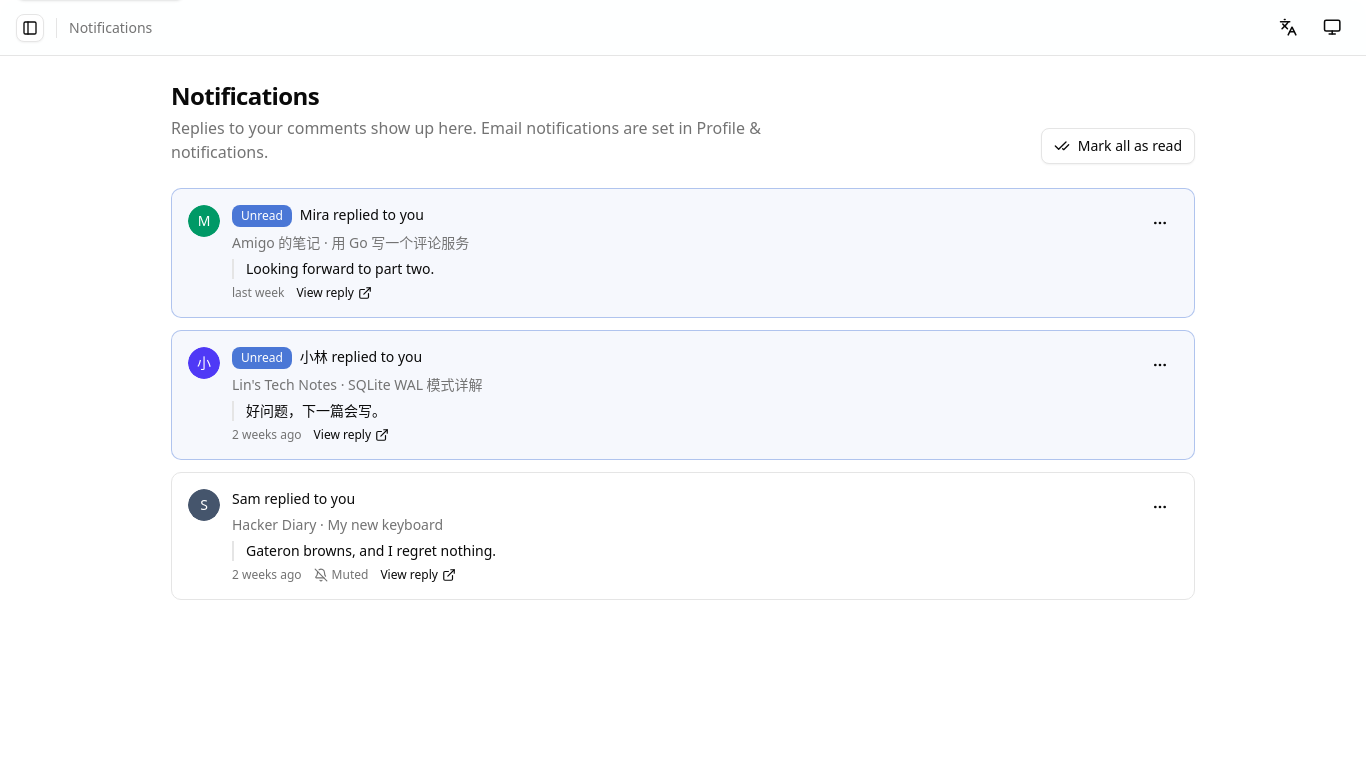
Test case: reader center › mutes a thread from a notification
Click the button named "Actions" in the row of "Mira replied to you": (1160, 223) left=1142, top=205, right=1178, bottom=241
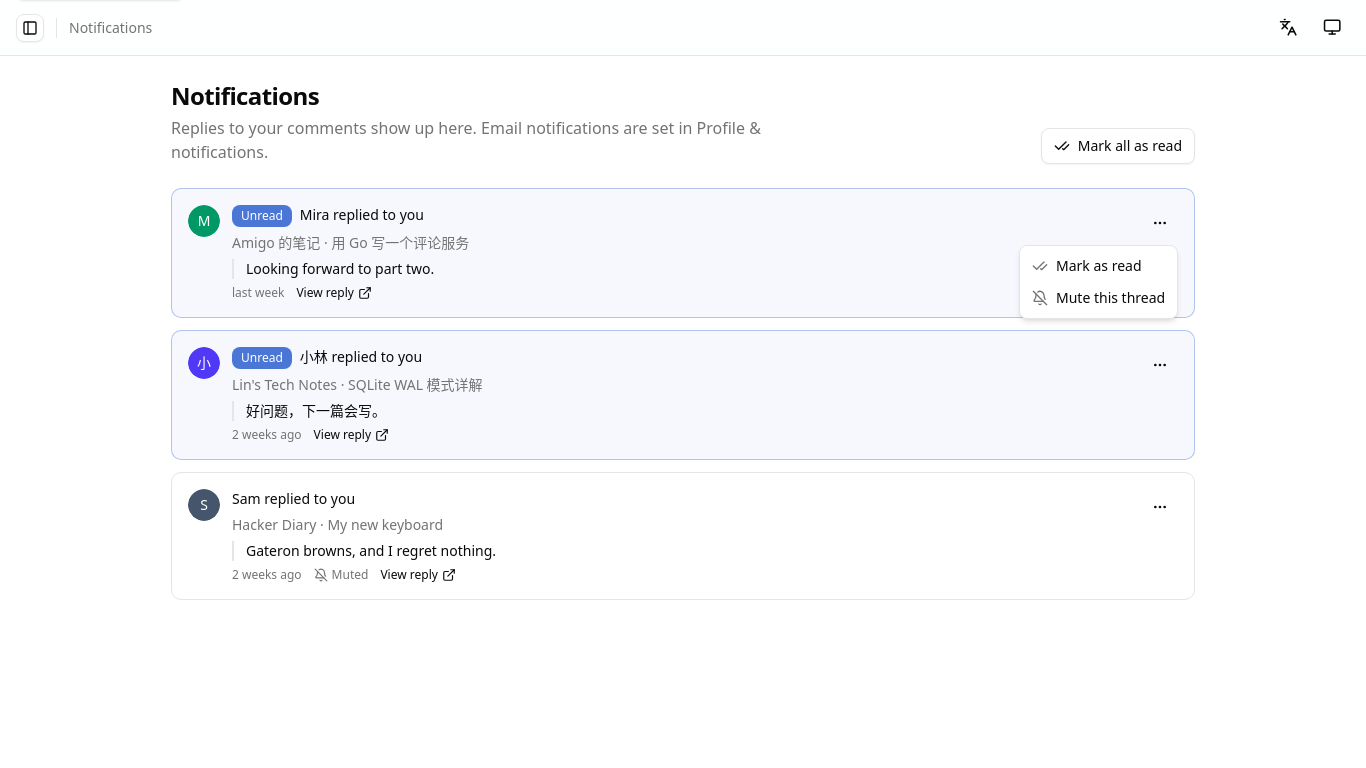
Click the menu item "Mute this thread": (1099, 298) left=1032, top=288, right=1165, bottom=307
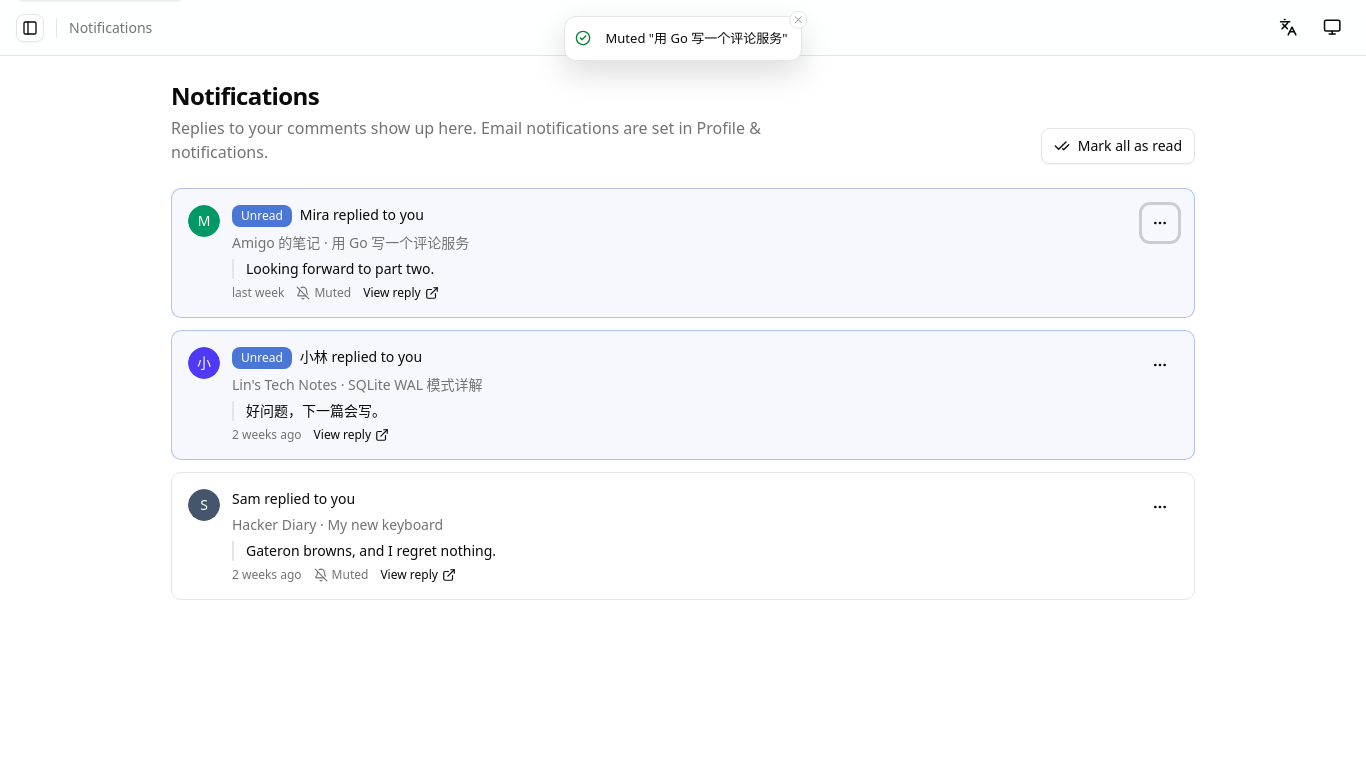
Now the text "Muted" next to "last week" is shown, box left=314, top=284, right=351, bottom=301
